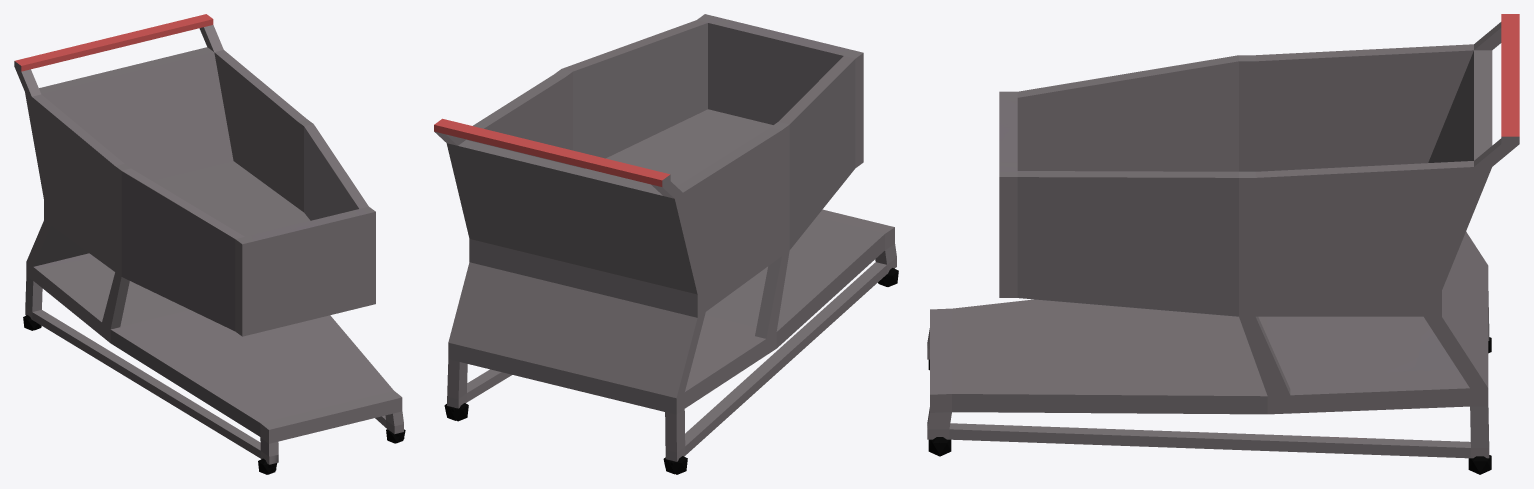
Rendered from cart.fbx.
3 renders of one model, left to right at view 1: azimuth 30°, elevation 25°; view 2: azimuth 150°, elevation 25°; view 3: azimuth 270°, elevation 25°, orthographic. The views are drawn at different scales.
Visible parts, largest first — view 1: Plane; view 2: Plane; view 3: Plane.
Boxes of the visible parts, x1,y1,x2,y2 form: Plane: (14, 14, 405, 474); Plane: (434, 14, 898, 474); Plane: (927, 14, 1519, 474).
Bounding box in the file's own units: 73.64 × 90.24 × 142.
